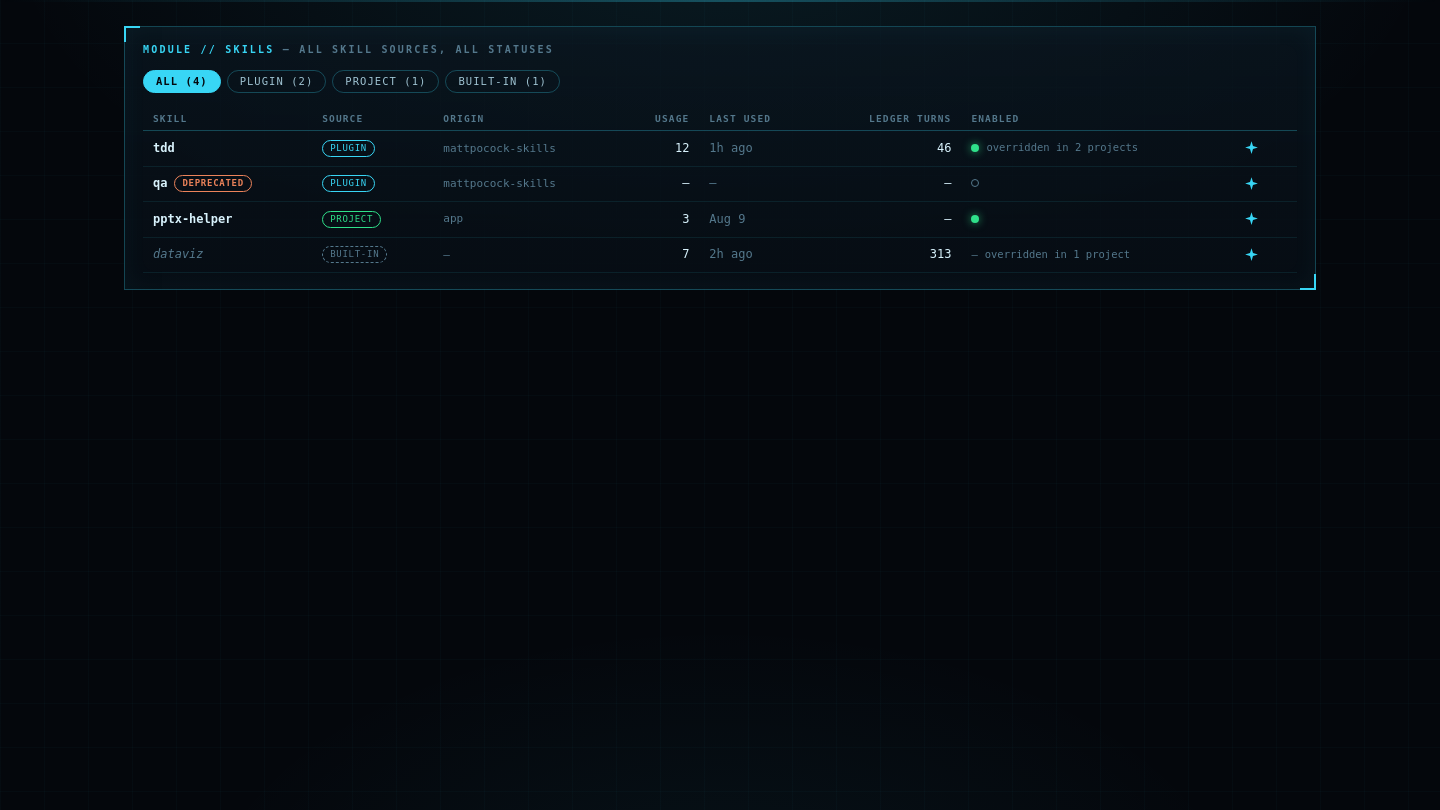
Test: Skills › filters by Skill Source with the pills
This screenshot has width=1440, height=810.
expect the text "tdd" is shown: met, box [143,131,312,166]
What coordinates should you click on to do the following:
click the button "Built-in (1)"
I would click on:
 (503, 81)
Its box is [446,70,560,93].
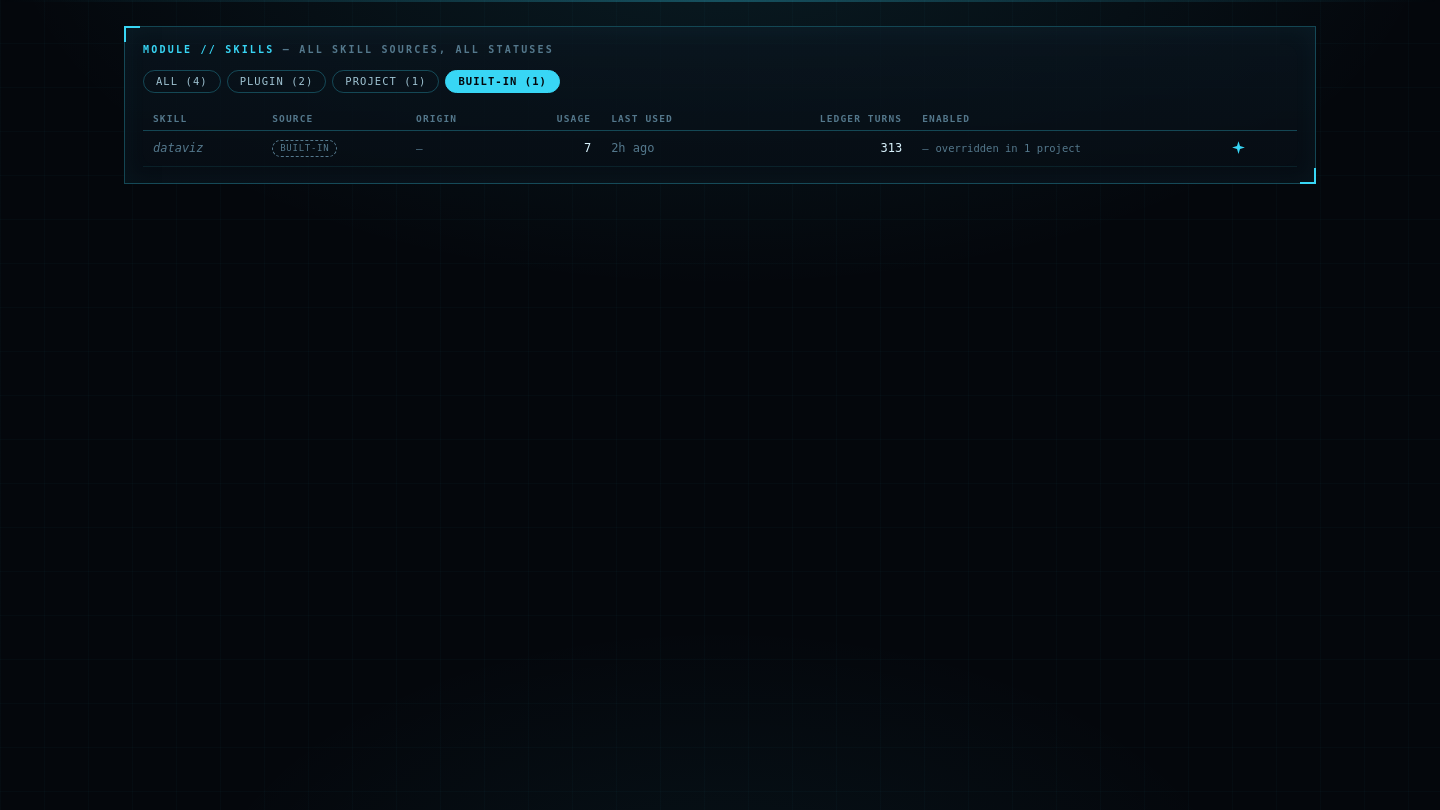
expect the text "dataviz" is shown: met, box [143,131,262,166]
expect the text "tdd" is gone: met
What coordinates should you click on to do the following:
click the button "Project (1)"
I would click on:
 (386, 81)
Its box is [332,70,440,93].
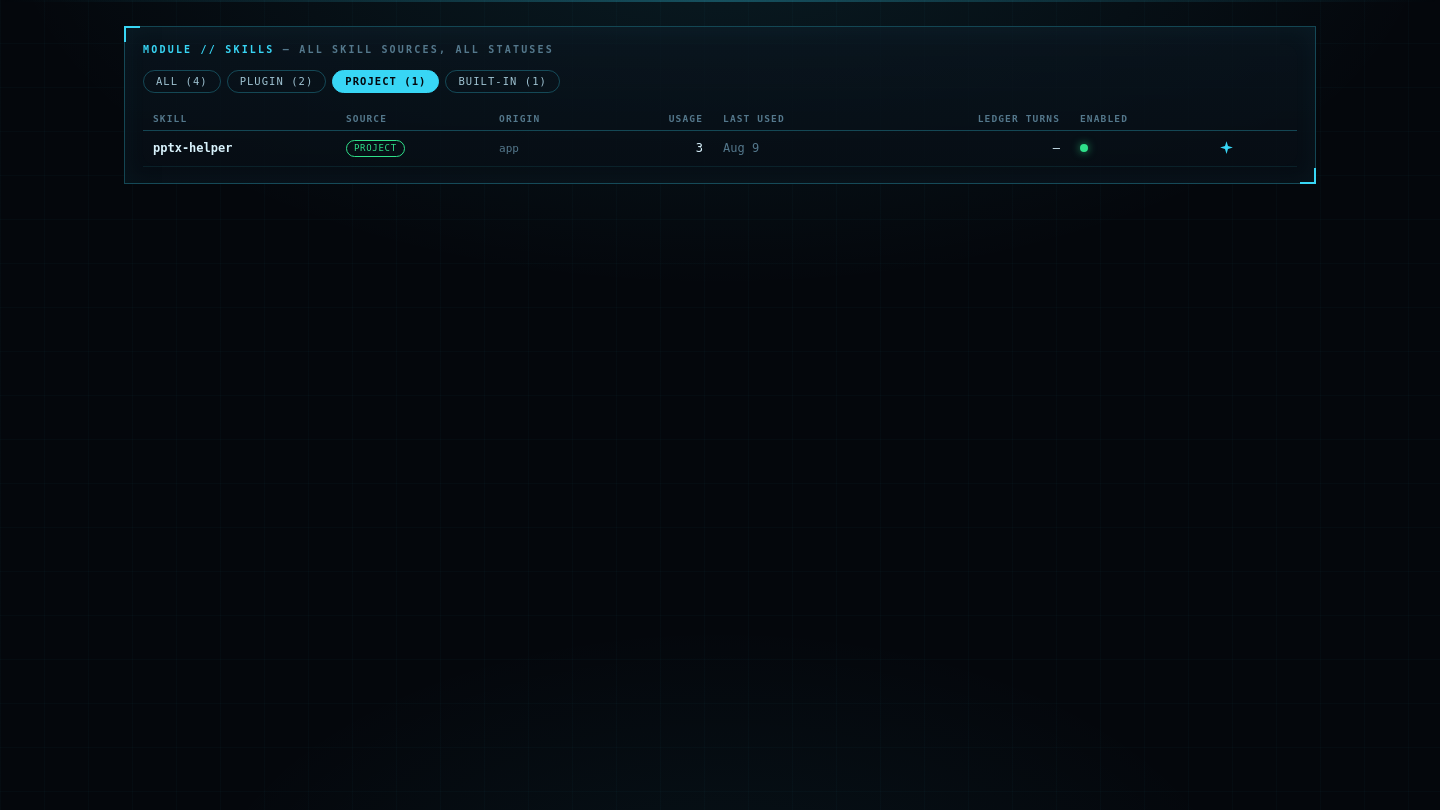
expect the text "pptx-helper" is shown: met, box [143,131,336,166]
expect the text "dataviz" is gone: met
